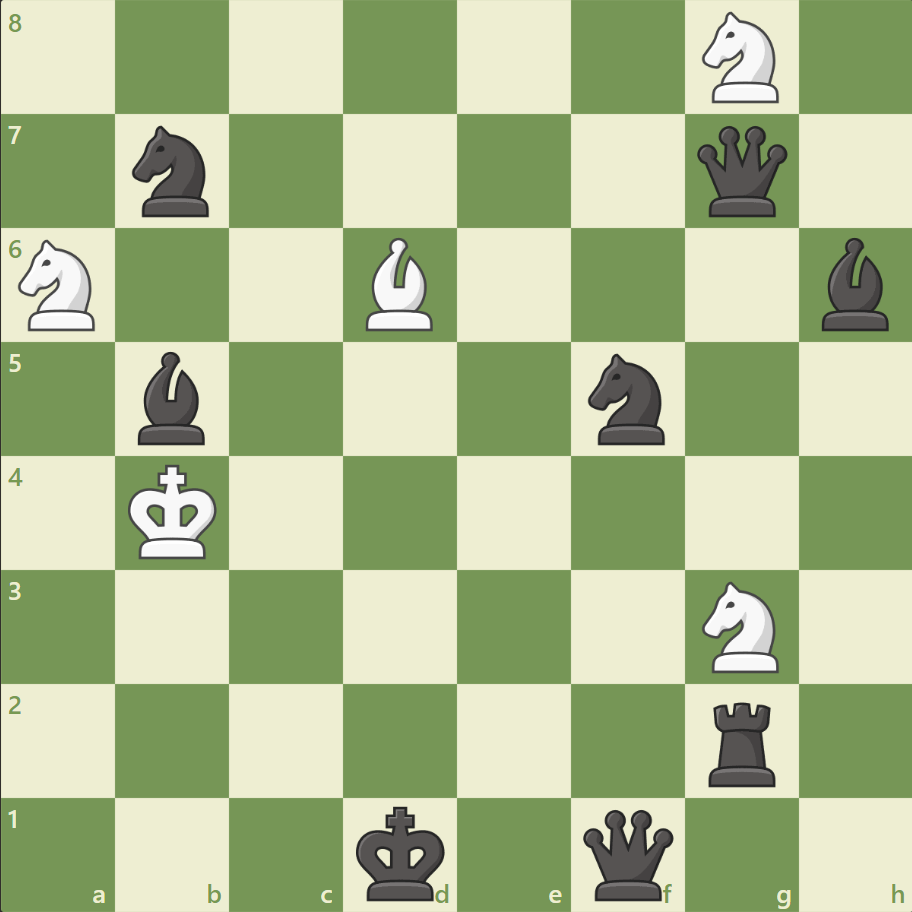B: (358, 233, 442, 336)
K: (124, 458, 224, 566)
N: (692, 7, 789, 110), (11, 234, 108, 337), (692, 575, 789, 677)
b: (812, 233, 896, 336), (131, 347, 215, 449)
k: (351, 798, 451, 906)
n: (124, 121, 222, 223), (579, 348, 676, 450)
q: (691, 122, 790, 222), (578, 804, 677, 903)
r: (700, 693, 783, 790)
